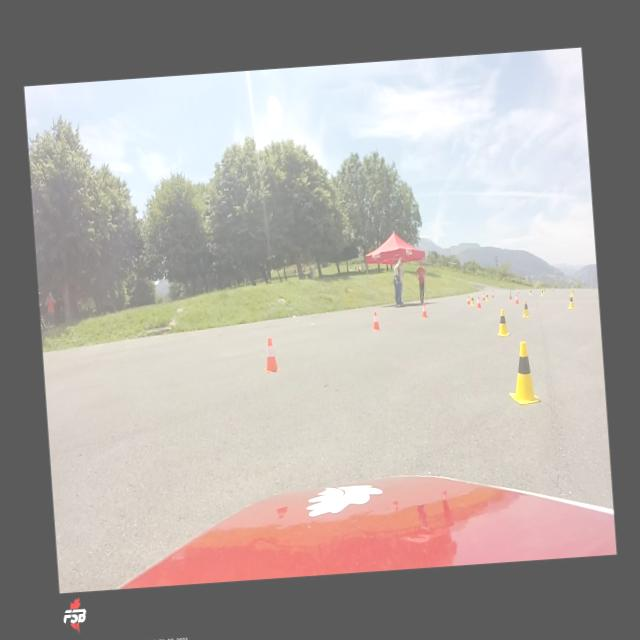orange_cone: (262, 336, 280, 372), (371, 310, 380, 330), (420, 302, 428, 318), (476, 296, 480, 308), (514, 293, 518, 304), (466, 294, 470, 304), (482, 292, 485, 300), (491, 290, 493, 298), (509, 292, 511, 298)
yellow_cone: (505, 340, 541, 406), (495, 308, 509, 337), (521, 298, 530, 318), (566, 293, 574, 308), (570, 285, 574, 297), (470, 296, 474, 306), (484, 292, 488, 301), (540, 288, 543, 296), (528, 288, 532, 294), (542, 287, 544, 294)
